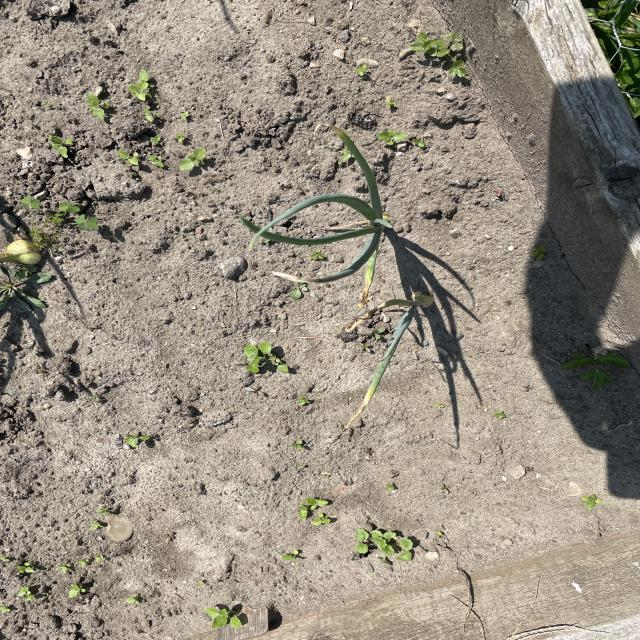Onion: (257, 158, 426, 283), (345, 288, 437, 402)
weed: (408, 23, 498, 94), (556, 335, 632, 396), (17, 189, 113, 236), (348, 518, 418, 572), (114, 138, 210, 176), (240, 340, 301, 386), (118, 61, 156, 118), (202, 600, 251, 638), (296, 490, 334, 531), (78, 84, 114, 127)
